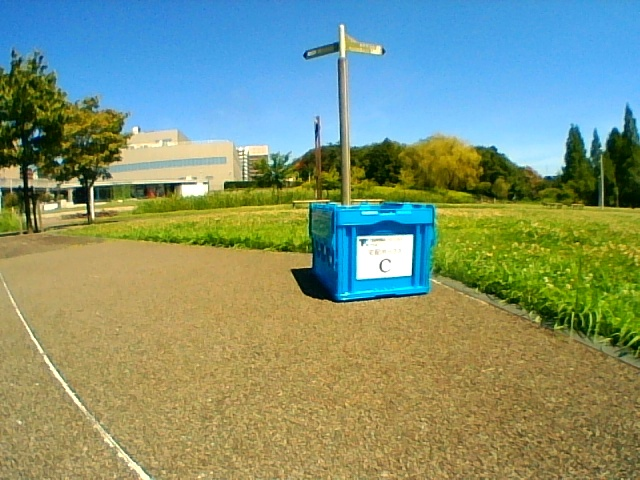blue_box: (317, 206, 429, 294)
tag_c: (359, 238, 409, 277)
